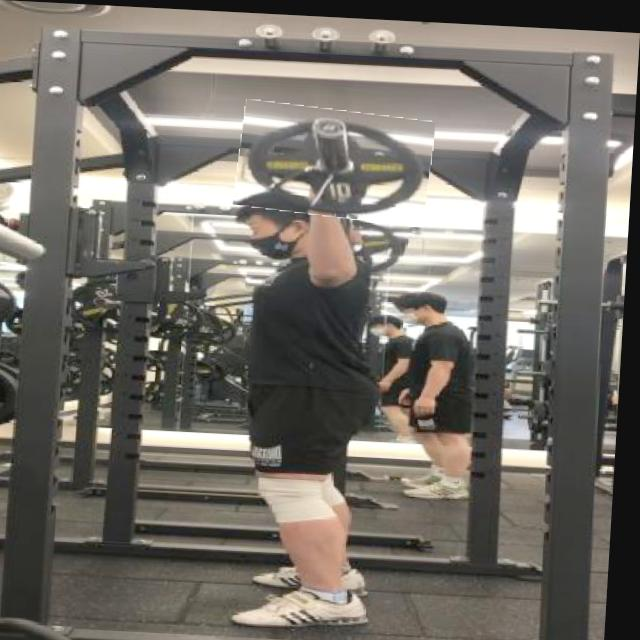barbell: (237, 100, 436, 221)
